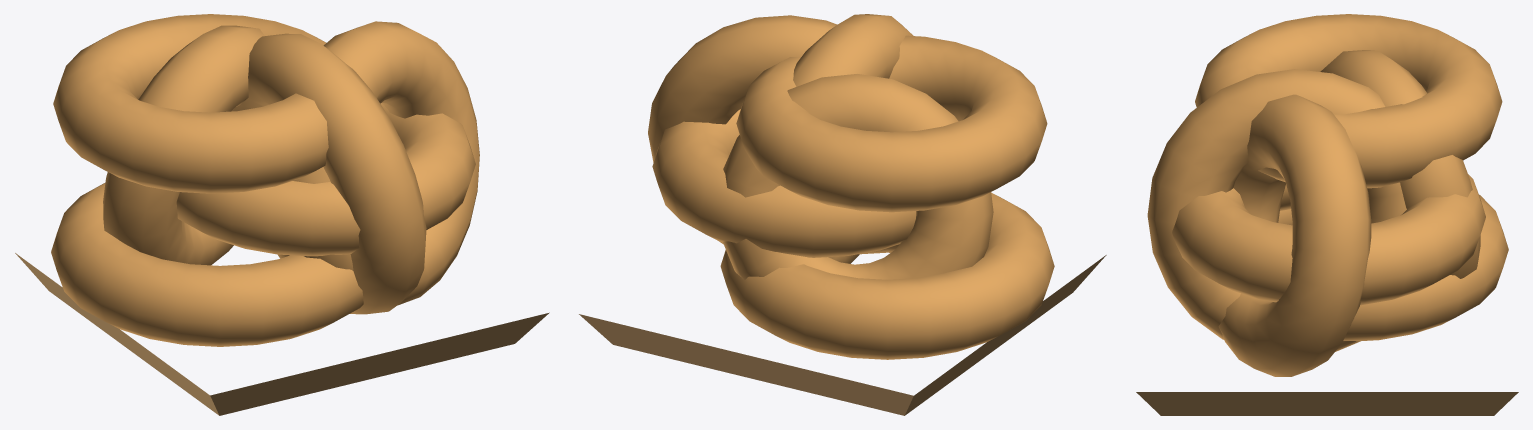
Rendered from onion-rings.glb.
3 views of the same model, side by side, from view 1: azimuth 30°, elevation 25°; view 2: azimuth 150°, elevation 25°; view 3: azimuth 270°, elevation 25° (orthographic). The views are drawn at different scales.
Visible parts, largest first — view 1: onion-rings; view 2: onion-rings; view 3: onion-rings.
Boxes of the visible parts, <box> form: onion-rings: <box>15,14,549,415</box>; onion-rings: <box>579,14,1106,415</box>; onion-rings: <box>1136,14,1518,415</box>.
Bounding box in the file's own units: 0.1161 × 0.0803 × 0.1008.
